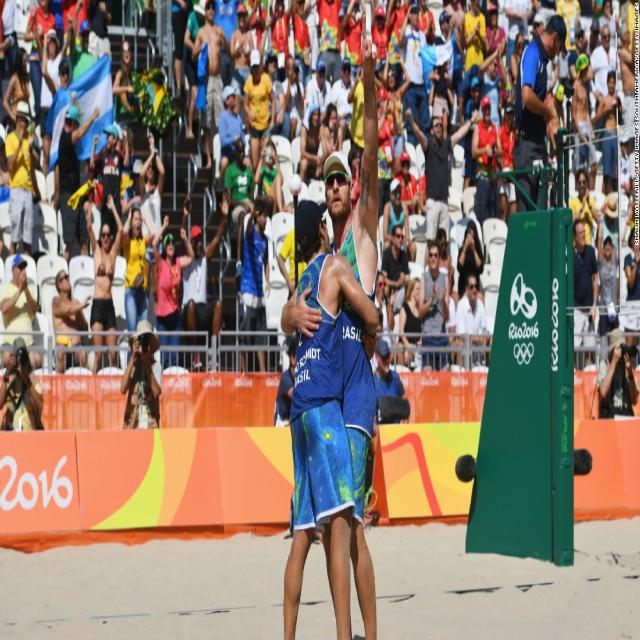body: (277, 193, 381, 639), (322, 9, 387, 640), (404, 106, 483, 270), (511, 12, 568, 214), (177, 187, 231, 373), (57, 88, 100, 266), (40, 30, 80, 216), (190, 0, 232, 173), (85, 190, 124, 376), (32, 11, 74, 182), (152, 214, 196, 372), (0, 0, 54, 108), (4, 100, 40, 258), (239, 195, 271, 372), (89, 123, 130, 257), (138, 129, 165, 322), (0, 253, 43, 371), (222, 136, 256, 284), (119, 316, 163, 429), (398, 2, 432, 145), (120, 203, 156, 338), (470, 93, 504, 231), (370, 338, 411, 448), (51, 269, 93, 376), (416, 241, 450, 372), (242, 48, 276, 176), (30, 0, 60, 140), (572, 216, 599, 371), (596, 326, 640, 420), (571, 52, 598, 202), (592, 70, 624, 196), (216, 84, 247, 212), (347, 52, 379, 174), (382, 48, 412, 176), (454, 270, 493, 366), (435, 10, 464, 136), (597, 212, 621, 363), (182, 0, 207, 143), (211, 0, 279, 51), (53, 0, 124, 48), (0, 335, 44, 411), (278, 198, 310, 302), (382, 176, 418, 264), (589, 24, 622, 116), (289, 0, 313, 125), (2, 46, 36, 134), (545, 83, 568, 212), (478, 41, 509, 136), (496, 100, 518, 226), (456, 218, 487, 307), (567, 167, 600, 250), (262, 50, 291, 140), (566, 26, 594, 119), (623, 225, 640, 372), (69, 0, 99, 83), (254, 137, 286, 214), (315, 0, 343, 88), (272, 336, 299, 427), (228, 2, 254, 96), (462, 76, 483, 192), (484, 2, 506, 112), (373, 270, 398, 366), (398, 276, 424, 367), (170, 0, 193, 102), (296, 100, 324, 183), (600, 191, 620, 307), (381, 223, 412, 297), (110, 37, 136, 125), (280, 53, 305, 144), (425, 59, 458, 127), (343, 0, 366, 90), (408, 2, 428, 100), (319, 101, 344, 178), (463, 0, 488, 77), (617, 22, 635, 125), (532, 13, 554, 96), (330, 56, 355, 129), (619, 138, 640, 224), (499, 0, 555, 32), (393, 149, 419, 216), (434, 226, 456, 305), (269, 0, 296, 63), (304, 57, 333, 114), (369, 0, 393, 61), (556, 0, 581, 51), (544, 47, 568, 94), (347, 142, 362, 211), (598, 0, 618, 51), (619, 0, 640, 47), (509, 31, 526, 82), (442, 0, 466, 33), (588, 17, 602, 57)
